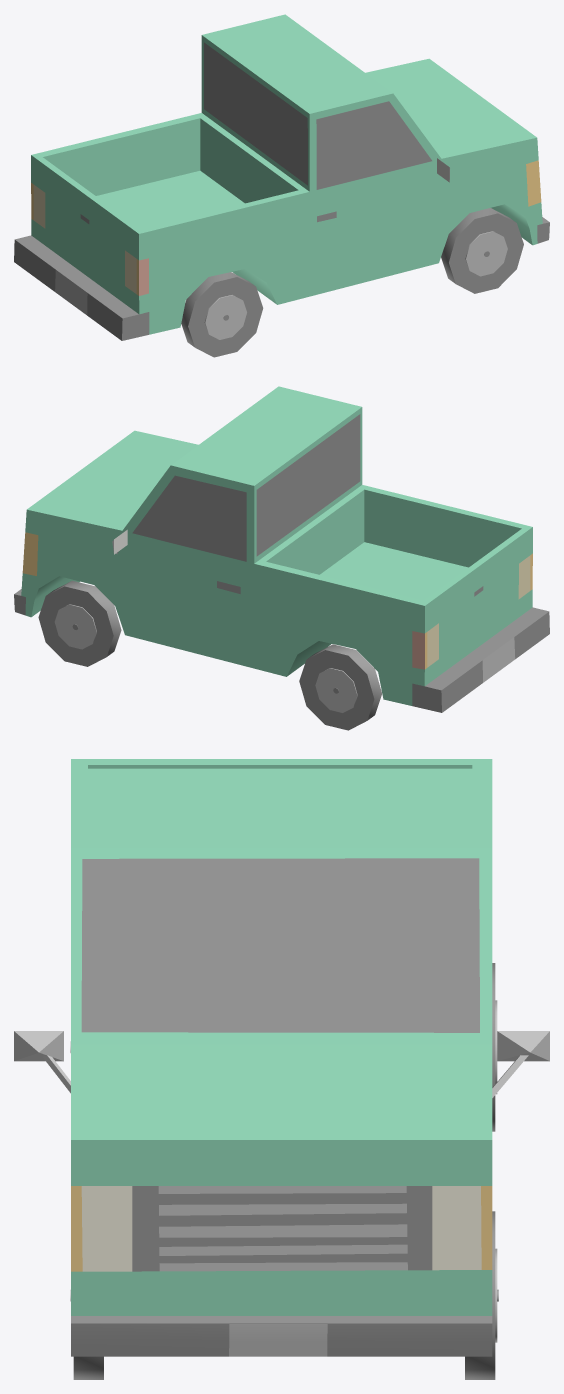
The model's file is kar_15.fbx.
The picture shows the model from 3 angles, top to bottom: view 1: azimuth 30°, elevation 25°; view 2: azimuth 150°, elevation 25°; view 3: azimuth 270°, elevation 25°; orthographic projection. The views are drawn at different scales.
Visible parts, largest first — view 1: Cube_1, Cylinder_6, Cylinder_9; view 2: Cube_1, Cylinder_8, Cylinder_7; view 3: Cube_1, Cylinder_7, Cylinder_8, Cylinder_6.
Boxes of the visible parts, x1,y1,x2,y2 form: Cube_1: (14, 14, 549, 340); Cylinder_6: (441, 208, 523, 293); Cylinder_9: (181, 272, 263, 357); Cube_1: (14, 386, 549, 712); Cylinder_8: (299, 644, 381, 730); Cylinder_7: (38, 580, 121, 666); Cube_1: (14, 759, 549, 1356); Cylinder_7: (465, 1211, 498, 1379); Cylinder_8: (492, 963, 497, 1131); Cylinder_6: (70, 1290, 103, 1379).
Size of the model in its own units: 435 by 215 by 242.
